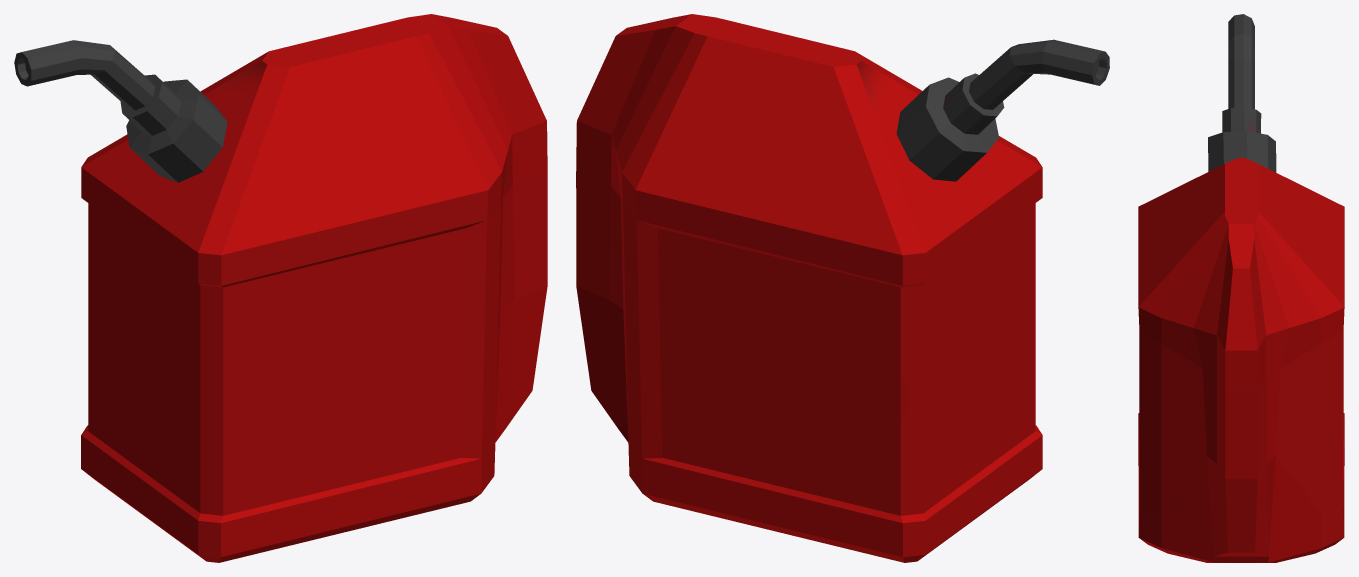
The model's file is Gas.obj.
The picture shows the model from 3 angles, left to right: view 1: azimuth 30°, elevation 25°; view 2: azimuth 150°, elevation 25°; view 3: azimuth 270°, elevation 25°; orthographic projection. The views are drawn at different scales.
Parts seen in each view (by area): view 1: Circle; view 2: Circle; view 3: Circle.
Part boxes in pixels (<box>): Circle: <box>14,14,547,562</box>; Circle: <box>576,14,1109,562</box>; Circle: <box>1138,14,1344,562</box>.
Size of the model in its own units: 19.39 by 17.95 by 8.71.
Materials: 1 (1 with a texture image).
